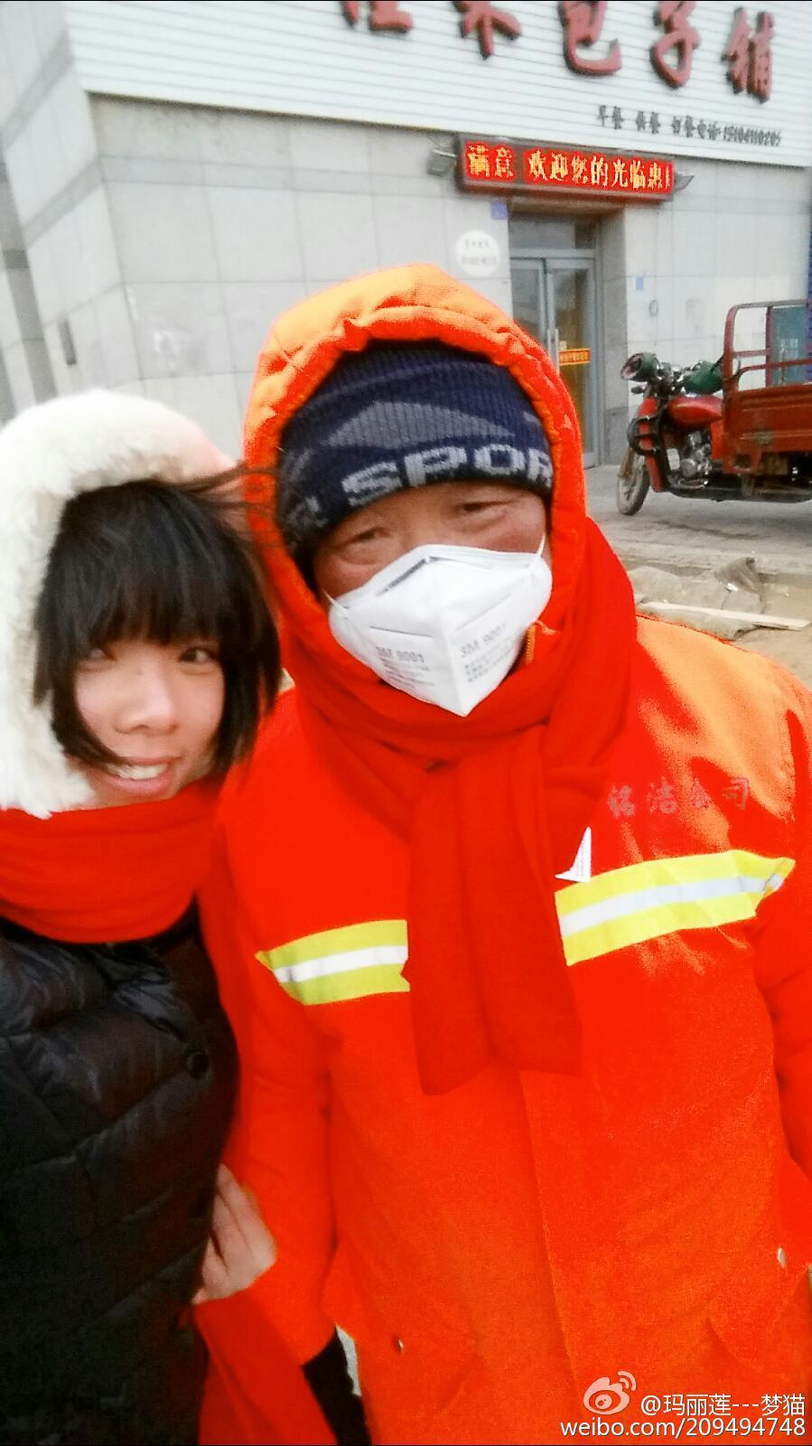NONE: (50, 597, 239, 823)
OK: (316, 465, 568, 717)
